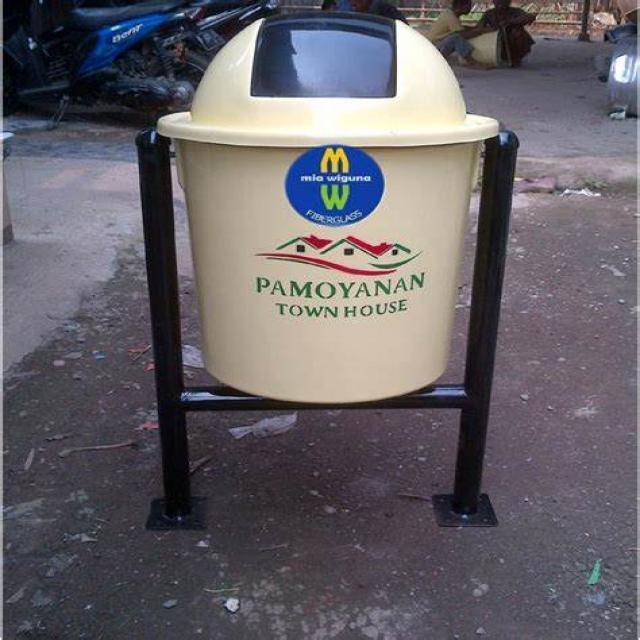garbage container: (98, 0, 612, 532)
